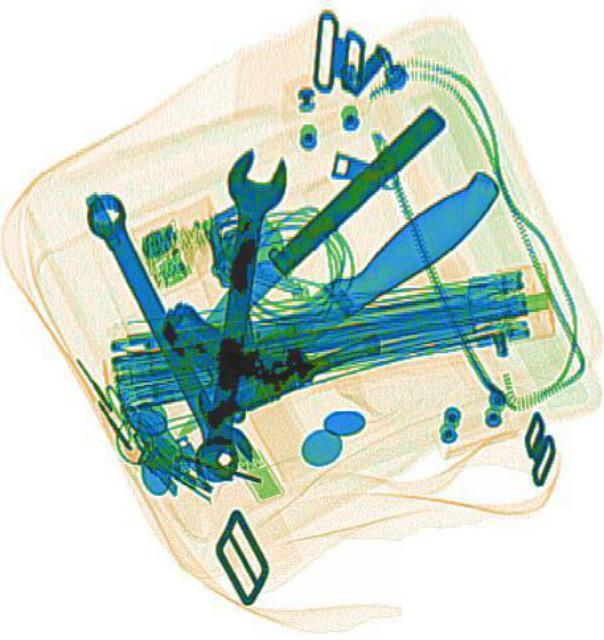Gun: (150, 233, 380, 431)
Knife: (158, 162, 507, 452), (149, 103, 447, 380)
Wrench: (70, 185, 259, 489), (180, 144, 288, 482)
